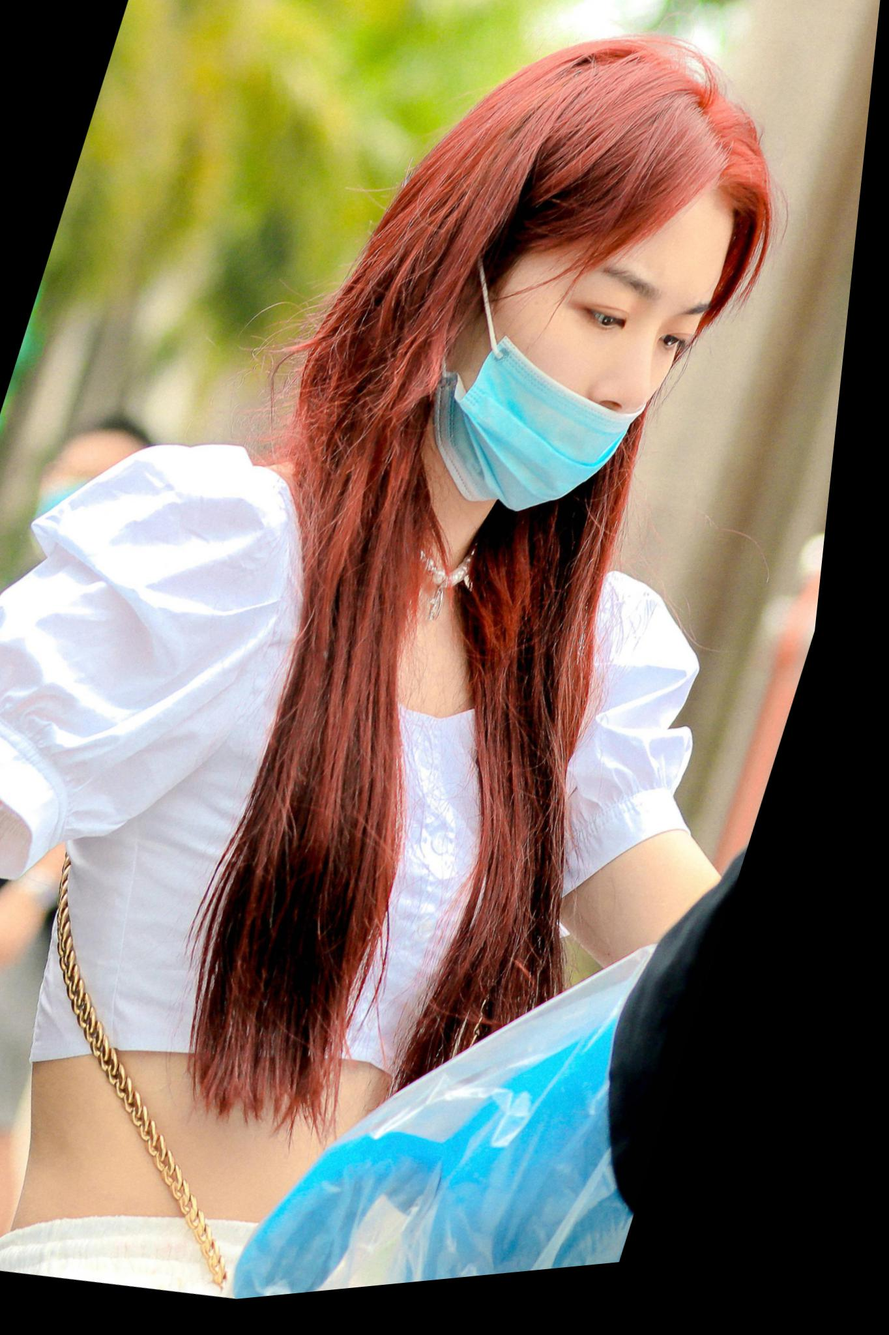WRONG: (443, 211, 744, 559)
